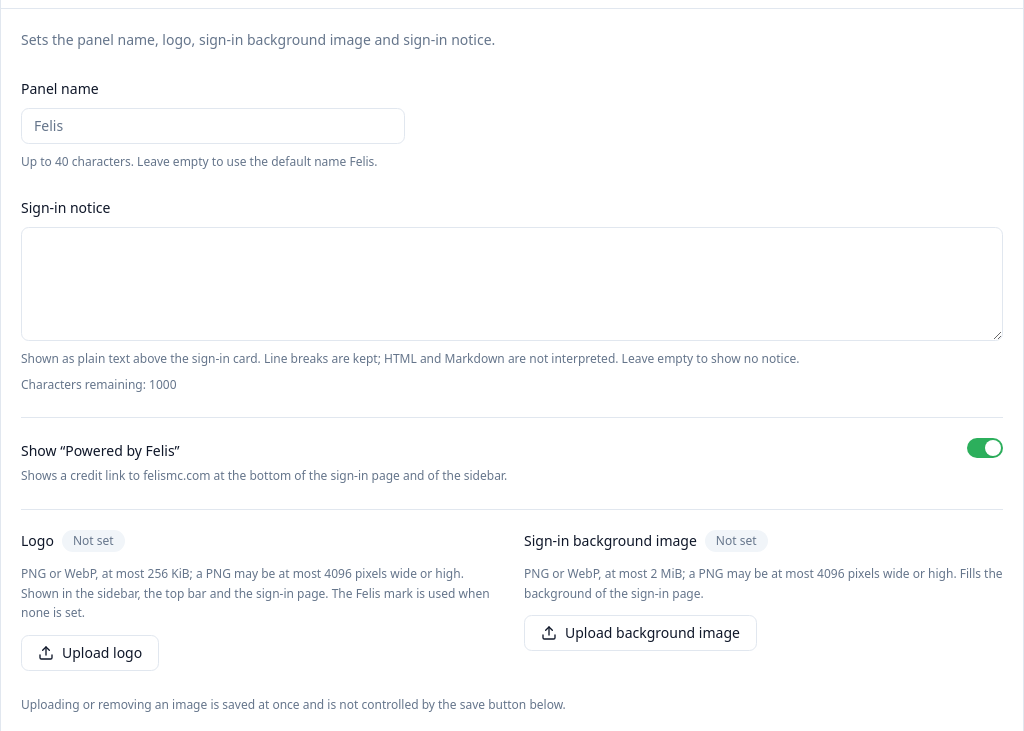
Test: branding settings › saves the edited fields with the revision that was read and keeps the draft after a conflict
The image size is (1024, 731).
In the field labelled "Panel name": (213, 126) [21, 108, 405, 144], type "Acme Cloud"
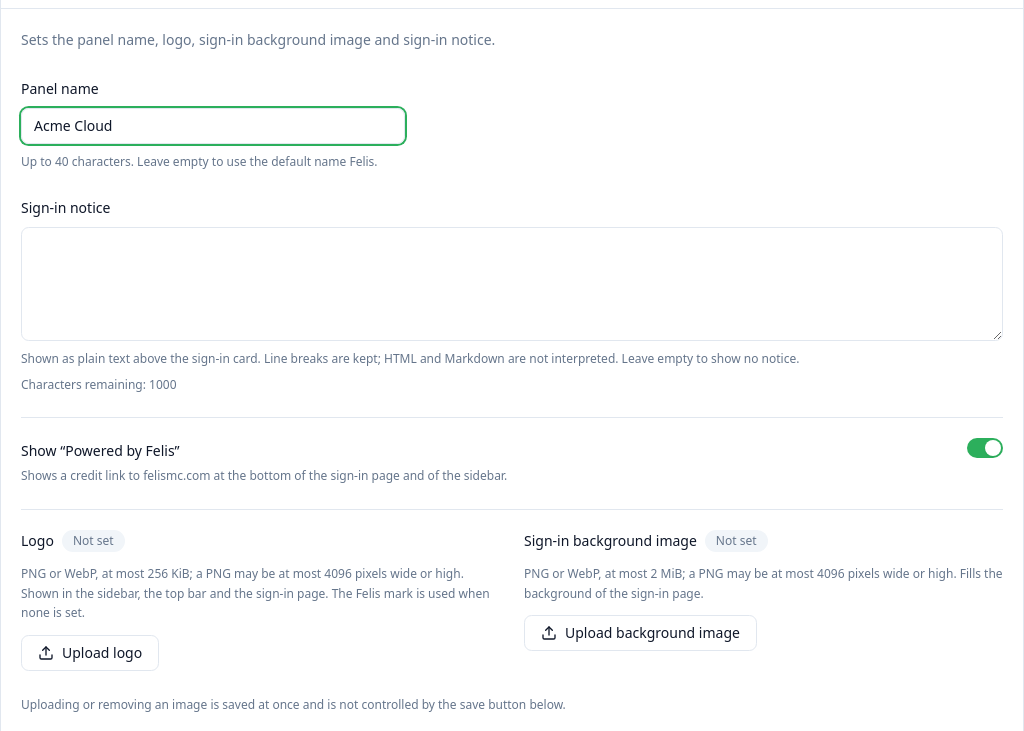
In the text box labelled "Sign-in notice": (512, 284) [21, 227, 1003, 341], type "Back at 9"
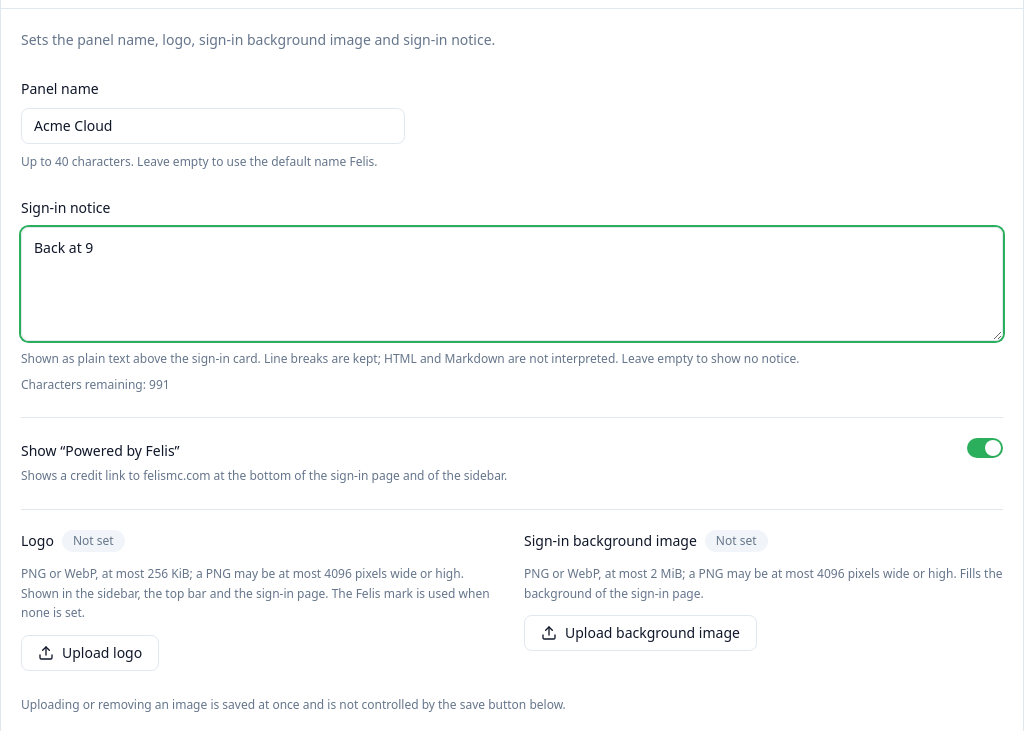
Click the switch named "Show “Powered by Felis”": (985, 448) [967, 438, 1003, 458]
(page scrolled)
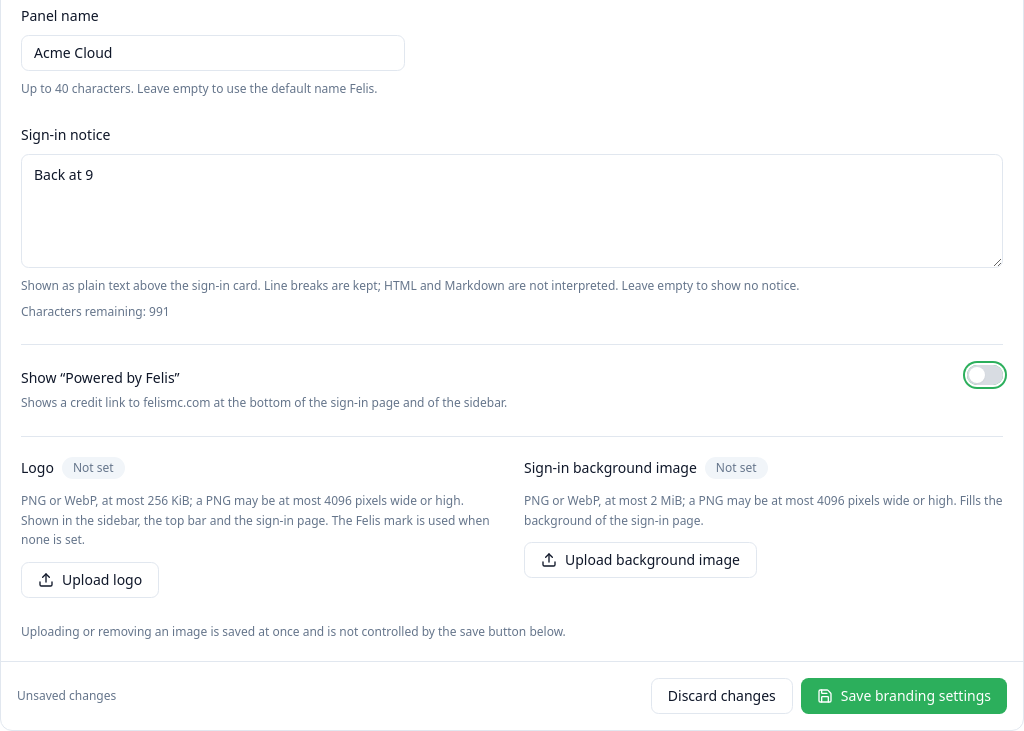
Click the button "Save branding settings": (904, 696) [801, 678, 1007, 714]
(page scrolled)
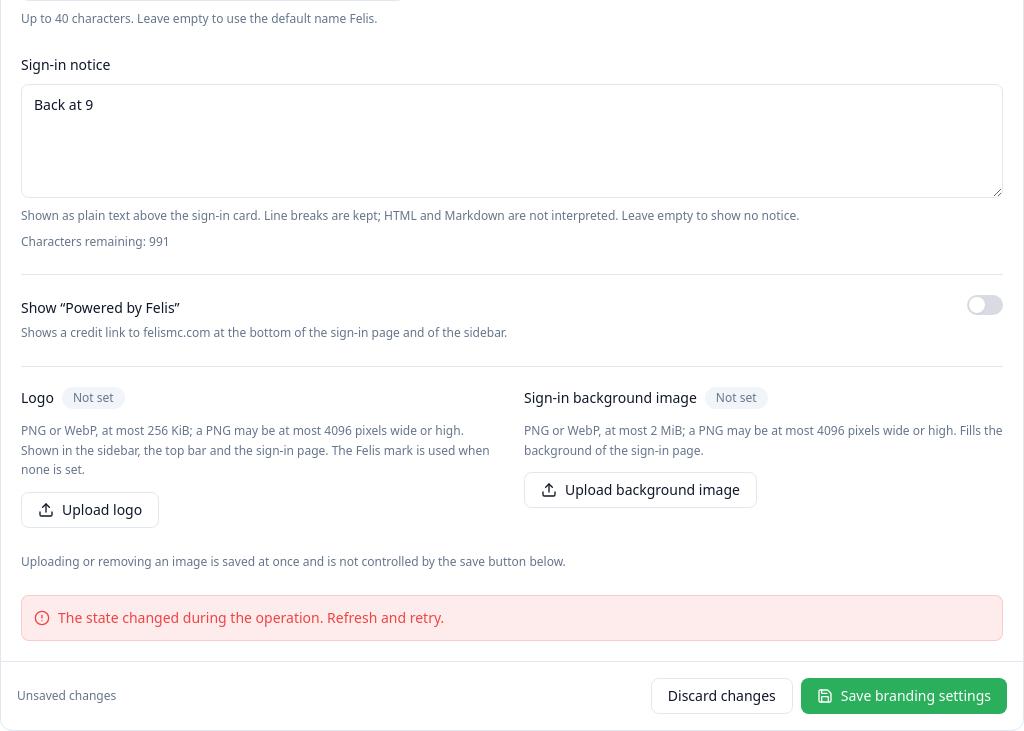
Expected: the text "The state changed during the operation. Refresh and retry." is shown, [58, 608, 444, 628]
Click the button "Save branding settings": (904, 696) [801, 678, 1007, 714]
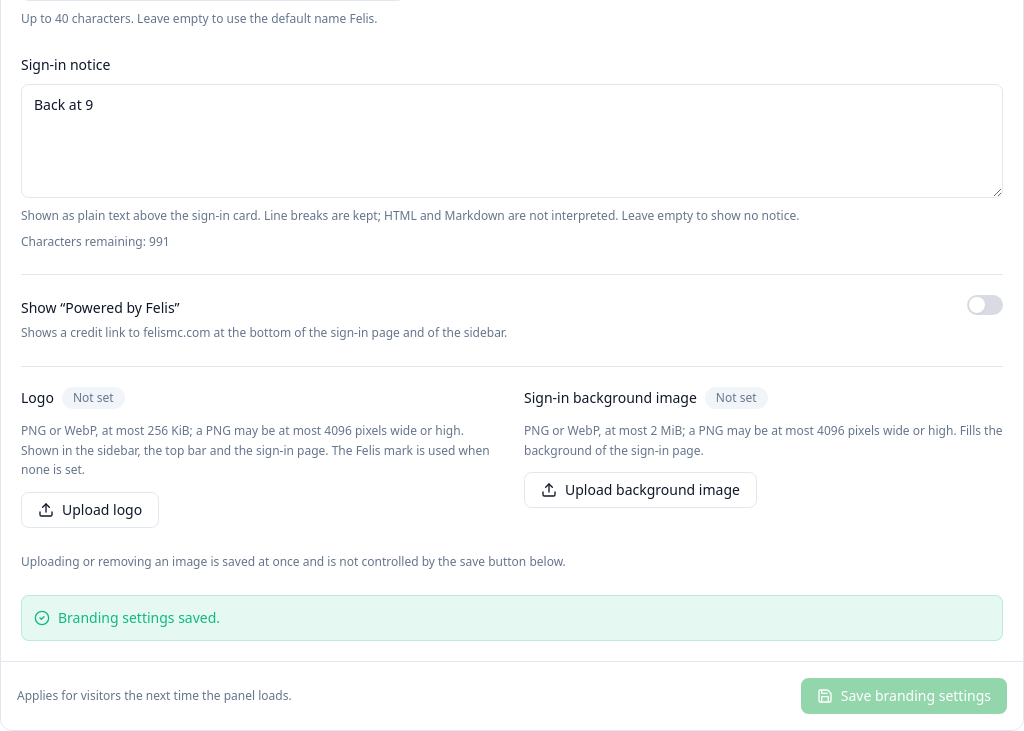
Expected: the text "Branding settings saved." is shown, [58, 608, 220, 628]
Expected: the button "Save branding settings" is disabled, [801, 678, 1007, 714]
